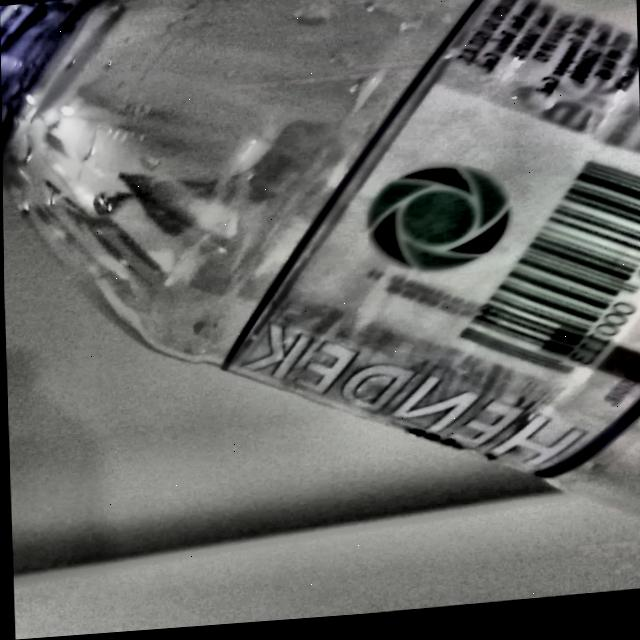plastic: (0, 0, 640, 526)
